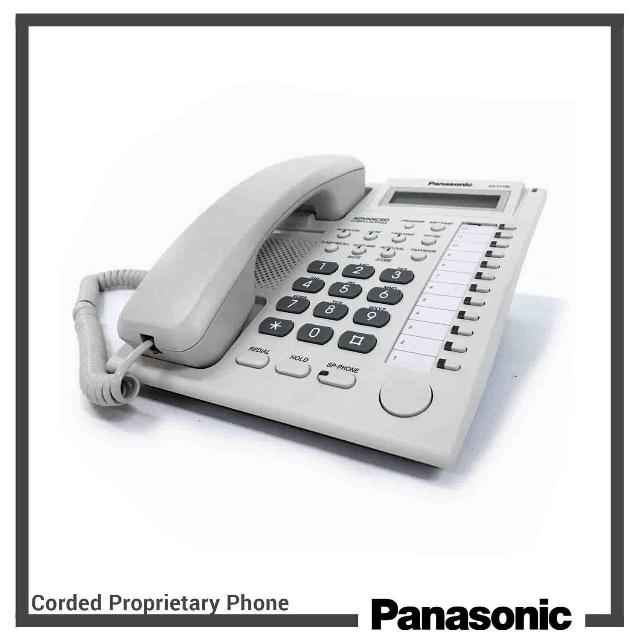Telephone-Set: (71, 119, 575, 484)
